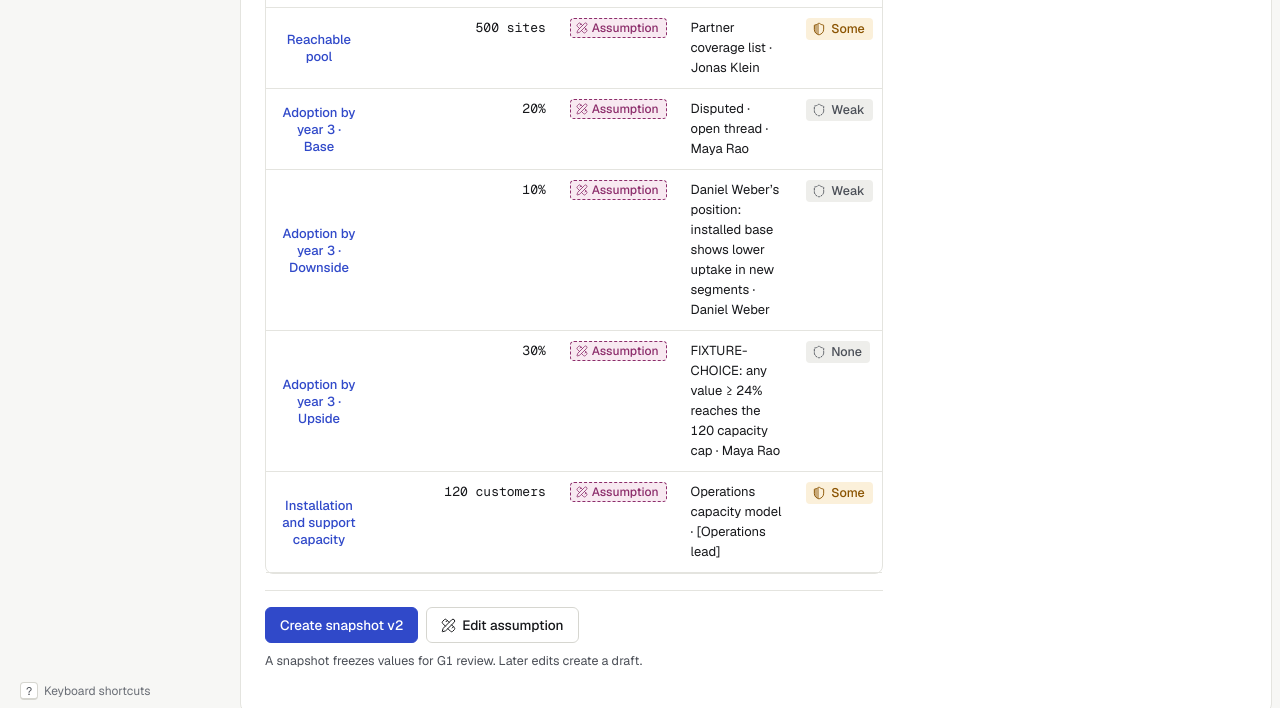
S06 Sizing › commits v2 and opens lineage on SAM with exact value, inputs and used-by (step 8)
The width and height of the screenshot is (1280, 708).
(page scrolled)
Click the button "Create snapshot v2" at (342, 625), box [265, 607, 418, 643]
(page scrolled)
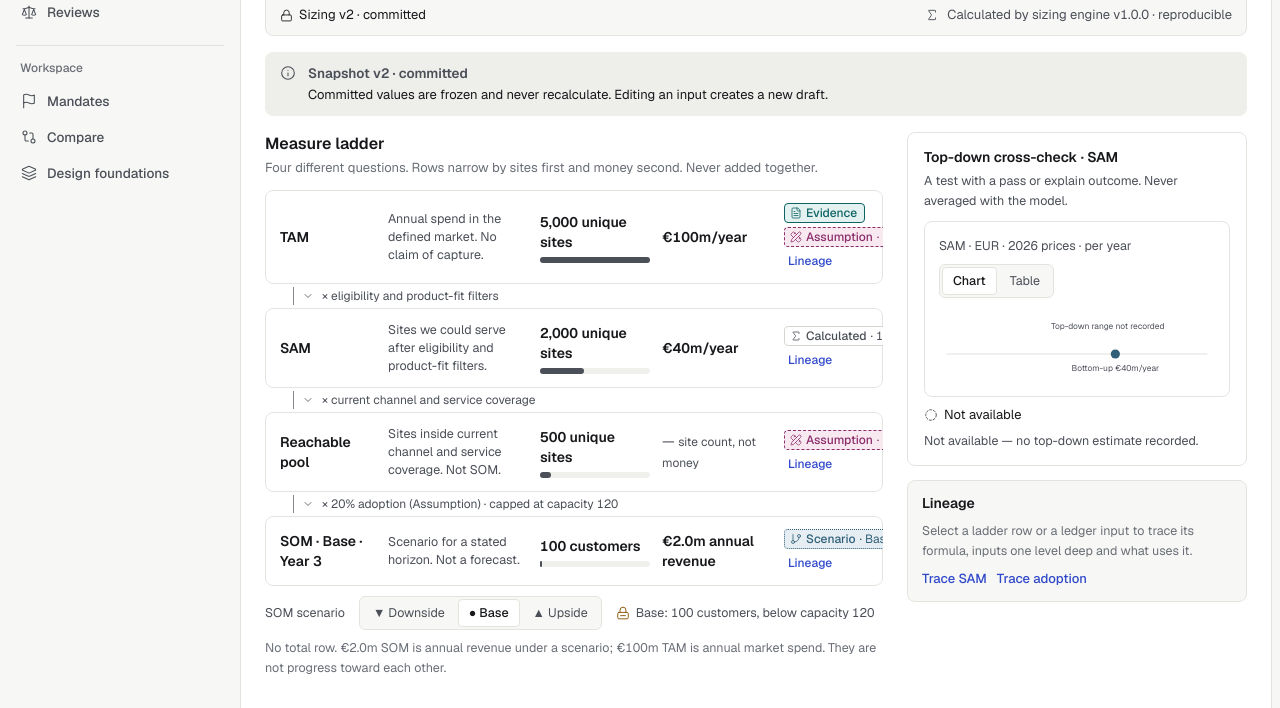
Now the text "Snapshot v2 · committed" is shown, box [308, 64, 468, 82]
Click the button with aria-label "Lineage for SAM" at (810, 360), box [786, 350, 834, 370]
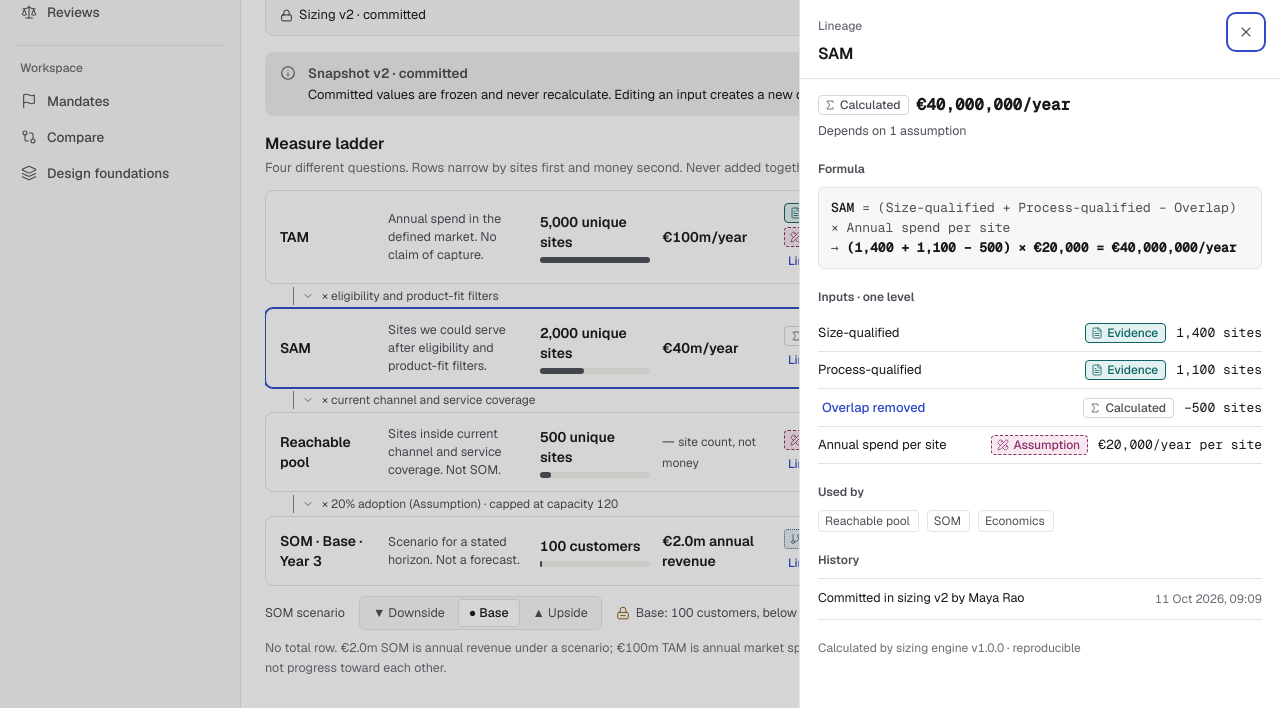
Now the dialog "SAM" shows "€40,000,000", box [916, 94, 1070, 115]
Now the dialog "SAM" shows "Inputs · one level", box [818, 289, 914, 305]
Now the dialog "SAM" shows "Size-qualified", box [818, 324, 900, 341]
